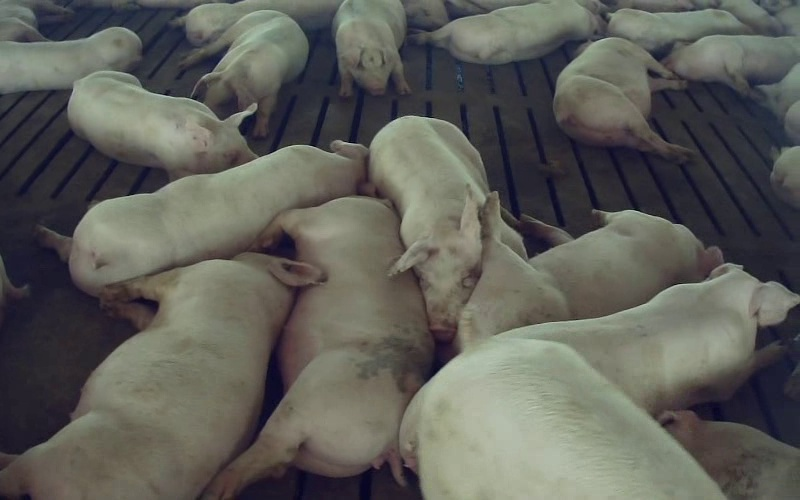pig: (0, 253, 320, 499), (207, 196, 433, 499), (401, 312, 723, 499), (36, 141, 373, 295), (497, 263, 799, 415), (466, 193, 722, 335), (369, 116, 488, 341), (68, 71, 256, 179), (553, 38, 693, 162), (179, 10, 308, 137), (409, 0, 600, 63), (0, 27, 140, 93), (662, 35, 799, 95), (174, 0, 341, 46), (332, 0, 409, 96), (607, 8, 751, 52)
